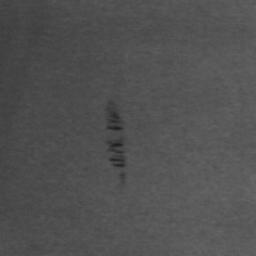Secondary rust skin: (104, 137, 126, 180), (105, 110, 124, 132)
